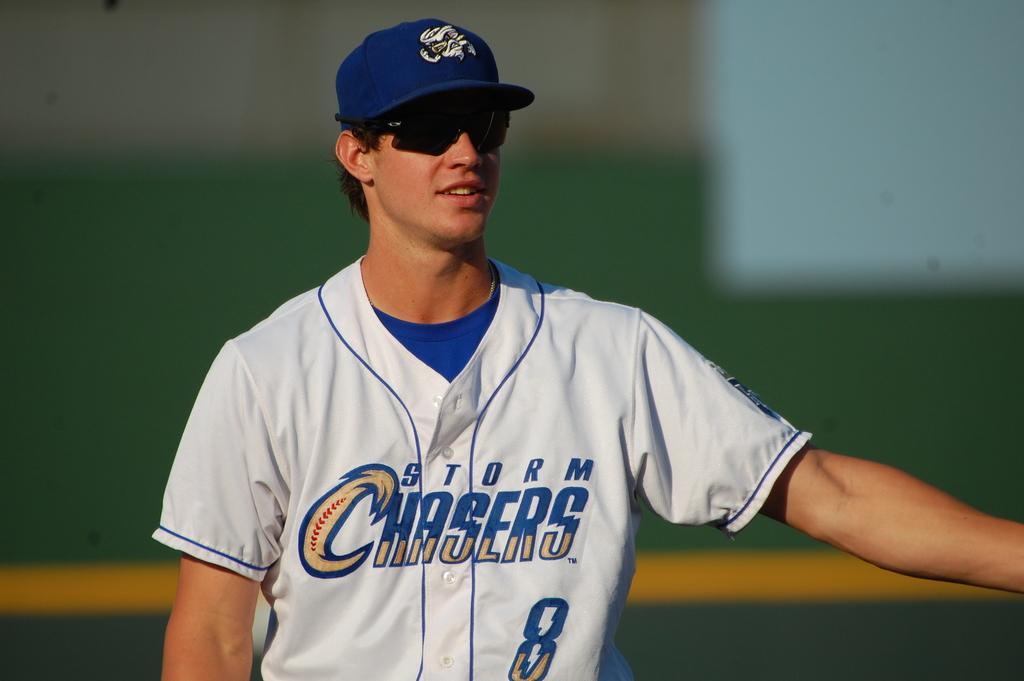Hat: (334, 17, 532, 132)
